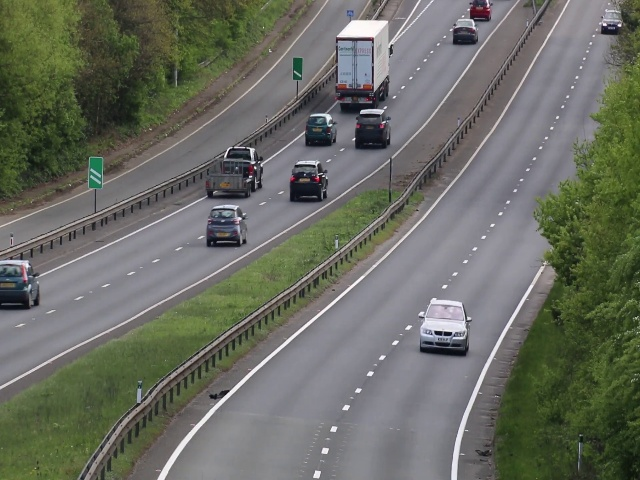car: (336, 17, 394, 108), (416, 297, 468, 355), (288, 158, 331, 203), (1, 257, 38, 309), (355, 105, 392, 148), (206, 205, 244, 246), (231, 144, 264, 190), (305, 114, 336, 147), (451, 17, 480, 45), (602, 7, 623, 33)
